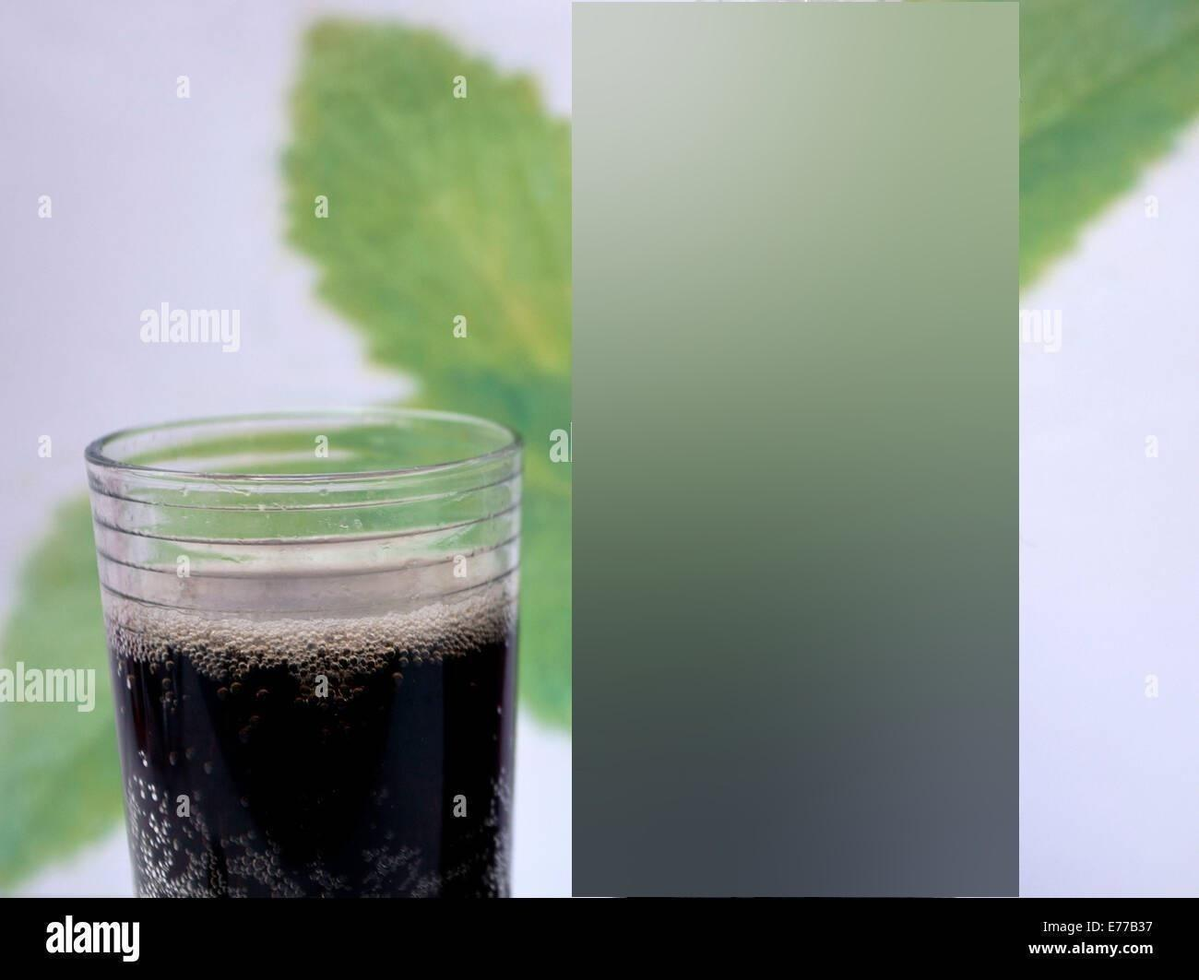glass-normal: (82, 405, 529, 896)
